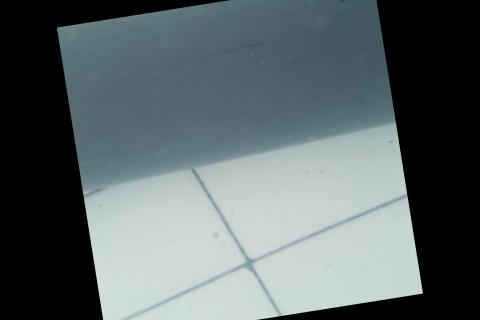keretakan: (307, 0, 376, 7)
